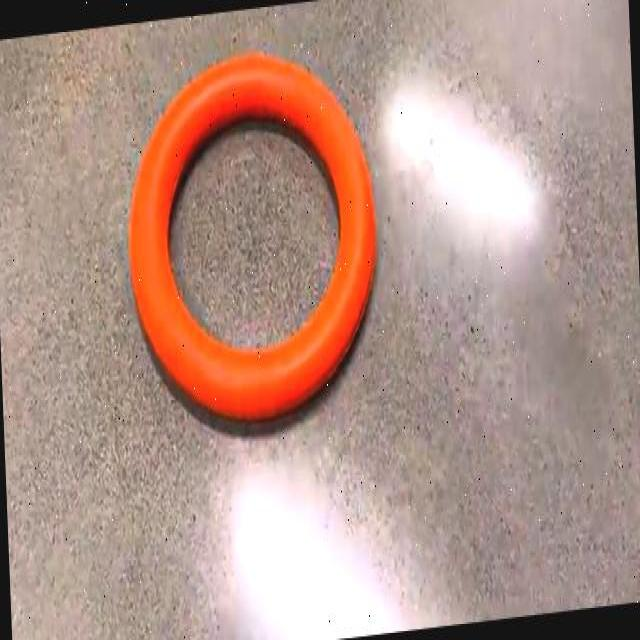note: (129, 53, 375, 420)
